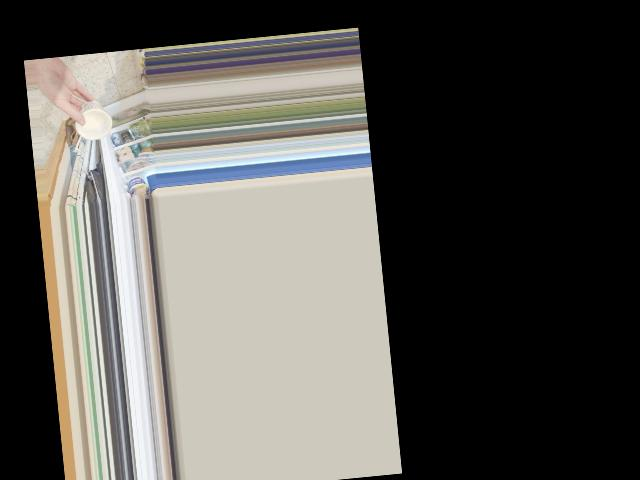cotage: (71, 97, 108, 141)
